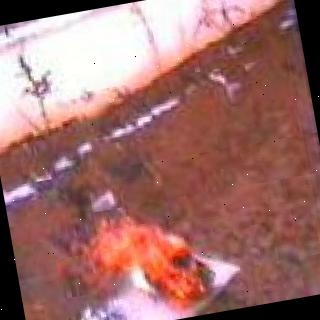fire: (50, 192, 226, 320)
